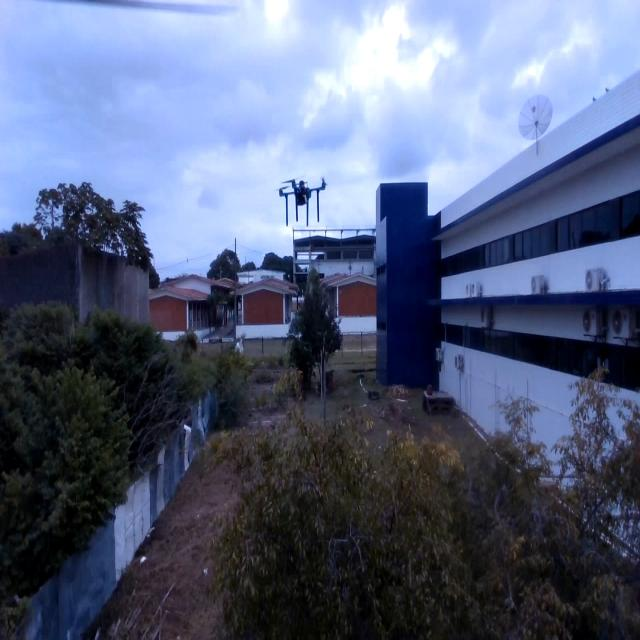-uav-: (273, 165, 331, 232)
